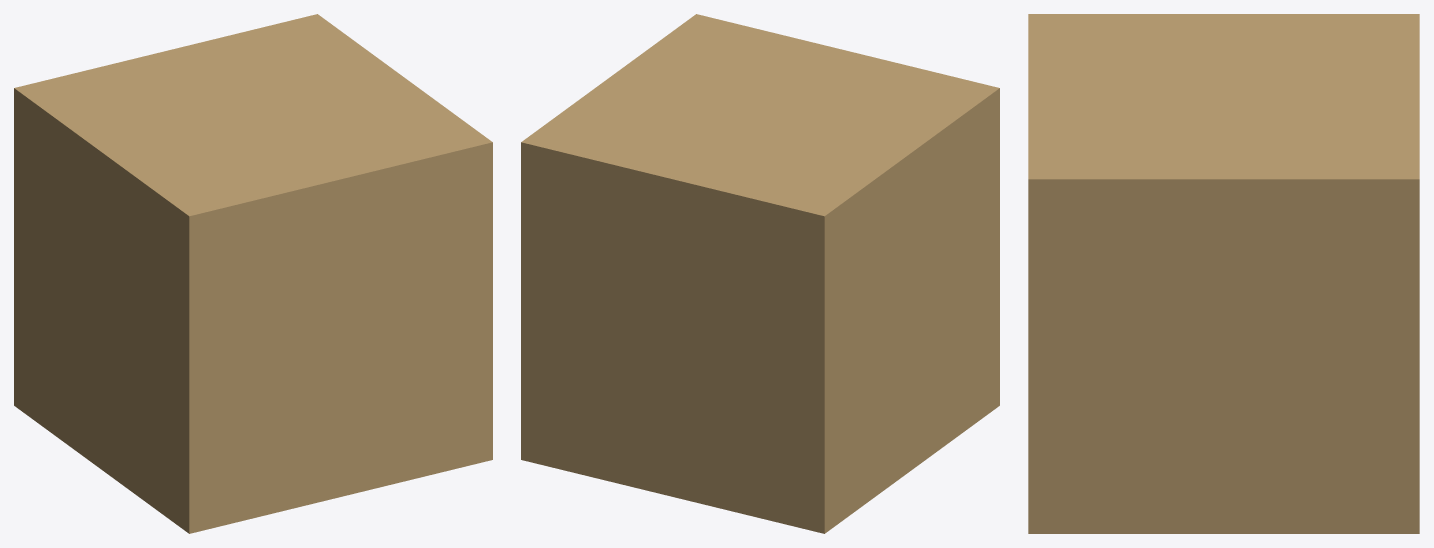
Rendered from crate_fractured.fbx.
The picture shows the model from 3 angles, left to right: view 1: azimuth 30°, elevation 25°; view 2: azimuth 150°, elevation 25°; view 3: azimuth 270°, elevation 25°; orthographic projection. The views are drawn at different scales.
Parts seen in each view (by area): view 1: Crate_cell_001, Crate_cell_003, Crate_cell_000, Crate_cell_002, Crate_cell_005, Crate_cell_004; view 2: Crate_cell_002, Crate_cell_004, Crate_cell_001, Crate_cell_007, Crate_cell_003, Crate_cell_006, Crate_cell_005; view 3: Crate_cell_004, Crate_cell_007, Crate_cell_000, Crate_cell_001, Crate_cell_005, Crate_cell_002.
Boxes of the visible parts, x1=… form: Crate_cell_001: x1=69, y1=94, x2=386, y2=339; Crate_cell_003: x1=72, y1=296, x2=354, y2=533; Crate_cell_000: x1=302, y1=250, x2=492, y2=506; Crate_cell_002: x1=14, y1=48, x2=255, y2=449; Crate_cell_005: x1=298, y1=105, x2=492, y2=327; Crate_cell_004: x1=176, y1=14, x2=441, y2=117; Crate_cell_002: x1=663, y1=124, x2=884, y2=533; Crate_cell_004: x1=521, y1=51, x2=742, y2=337; Crate_cell_001: x1=716, y1=40, x2=999, y2=343; Crate_cell_007: x1=521, y1=288, x2=679, y2=497; Crate_cell_003: x1=882, y1=212, x2=999, y2=489; Crate_cell_006: x1=675, y1=332, x2=747, y2=515; Crate_cell_005: x1=646, y1=14, x2=801, y2=97; Crate_cell_004: x1=1142, y1=102, x2=1419, y2=342; Crate_cell_007: x1=1159, y1=307, x2=1419, y2=533; Crate_cell_000: x1=1028, y1=273, x2=1188, y2=533; Crate_cell_001: x1=1028, y1=14, x2=1295, y2=121; Crate_cell_005: x1=1028, y1=113, x2=1193, y2=300; Crate_cell_002: x1=1270, y1=14, x2=1419, y2=109.
Bounding box in the file's own units: 1 × 1 × 1.
